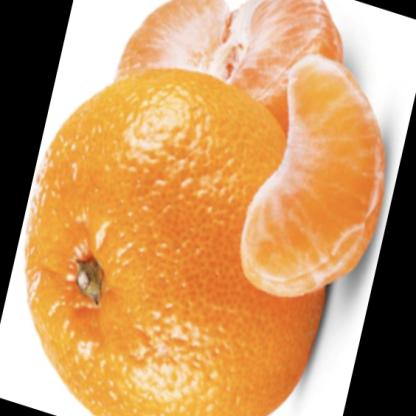fresh: (26, 1, 389, 416)
